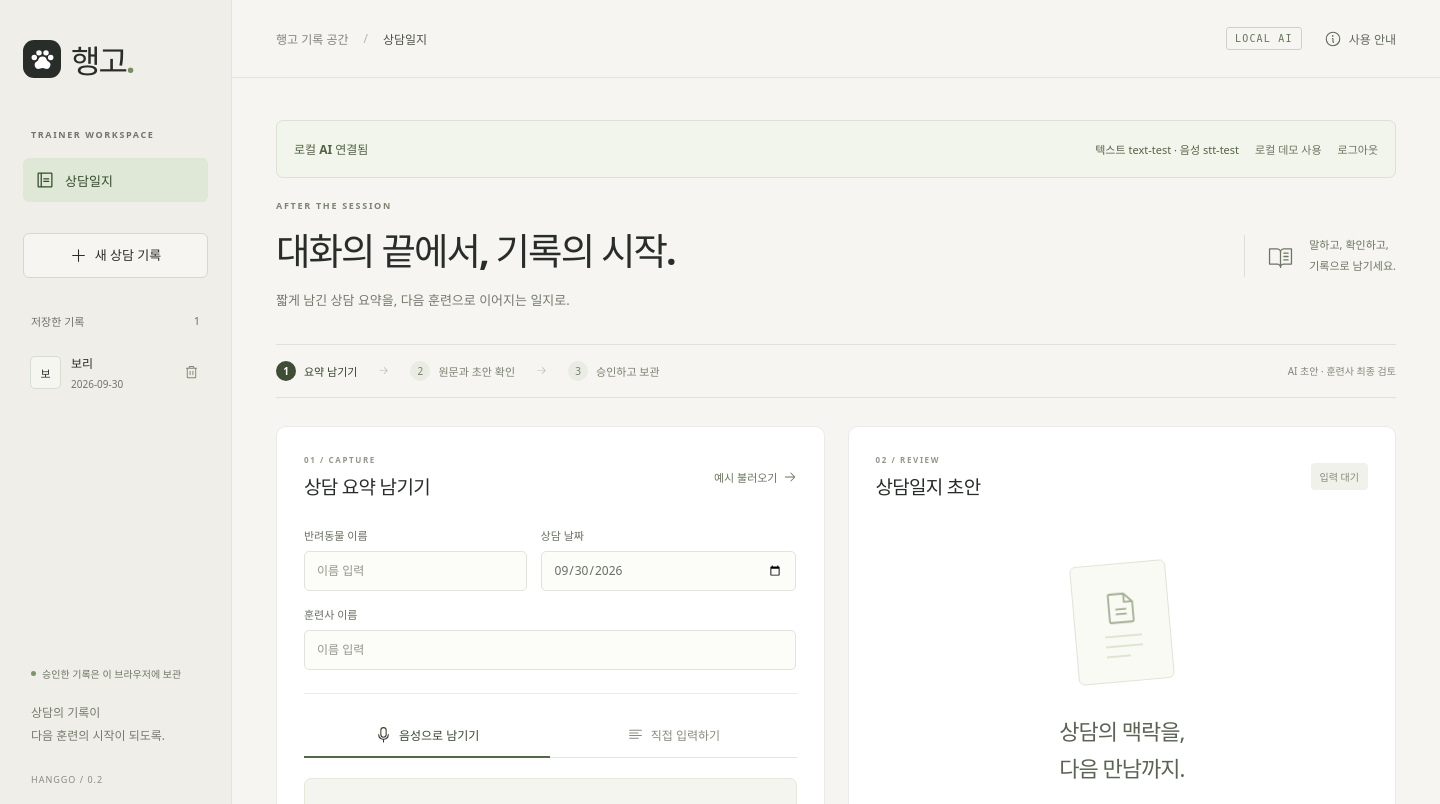
hides saved history and editor after logout
The width and height of the screenshot is (1440, 804).
Expected: the button "보 보리 2026-09-30" is shown, [23,344,177,401]
Click the button "로그아웃" at (1358, 149), box [1338,134,1378,164]
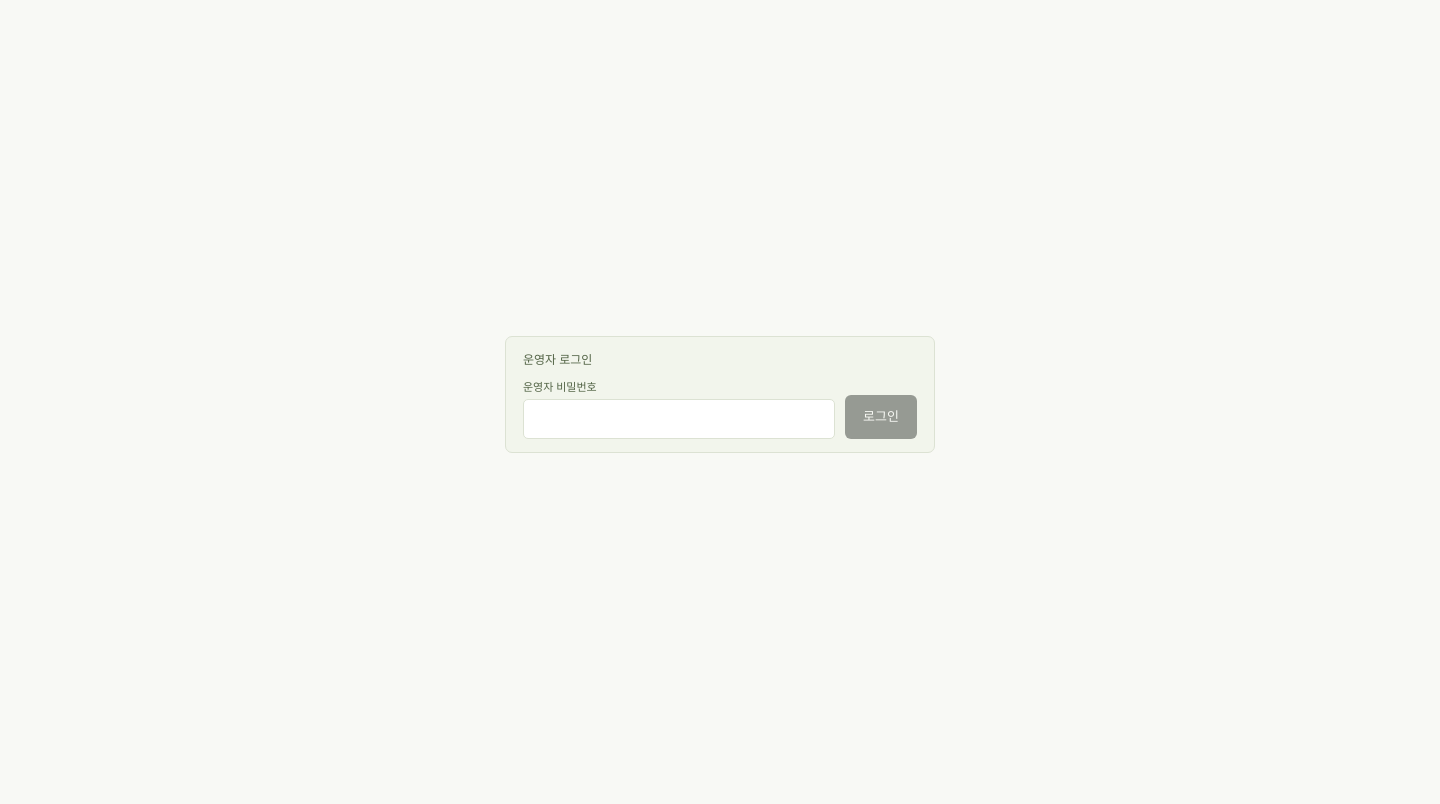
Expected: the password field labelled "운영자 비밀번호" is shown, [523,398,835,438]
Now the text "저장한 기록" is gone
